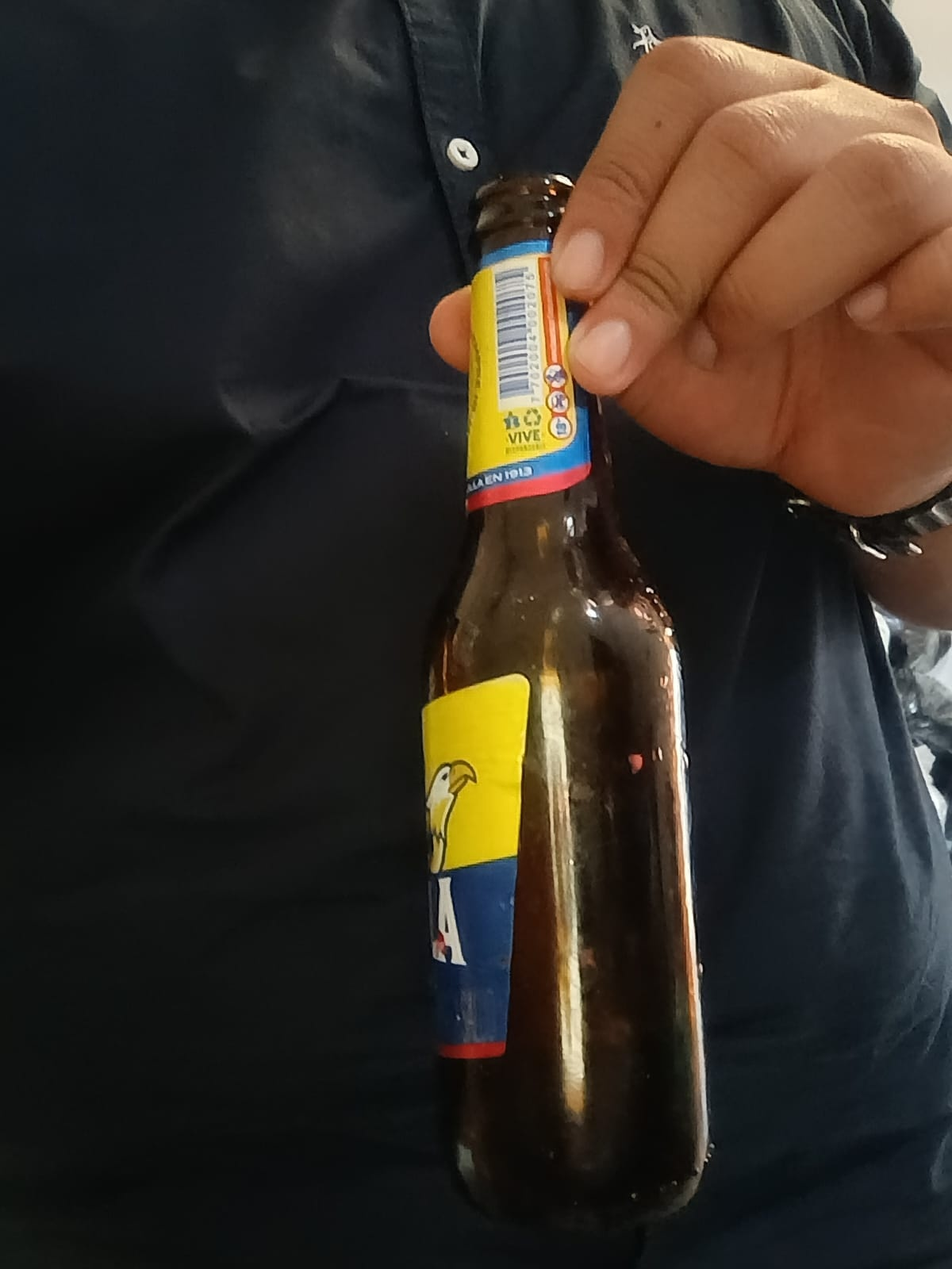Vidrio: (418, 177, 712, 1228)
